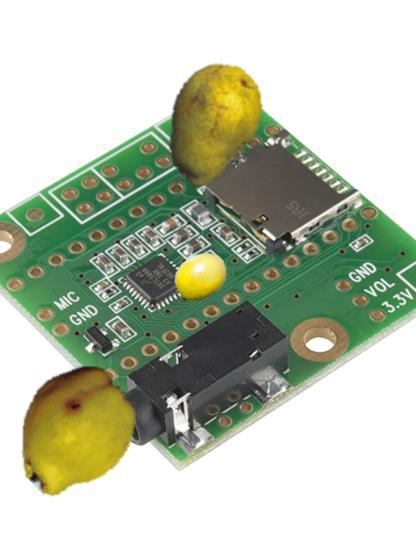Maracuja: (172, 249, 229, 306)
Pear: (146, 60, 280, 194)
Quince: (7, 361, 144, 498)
